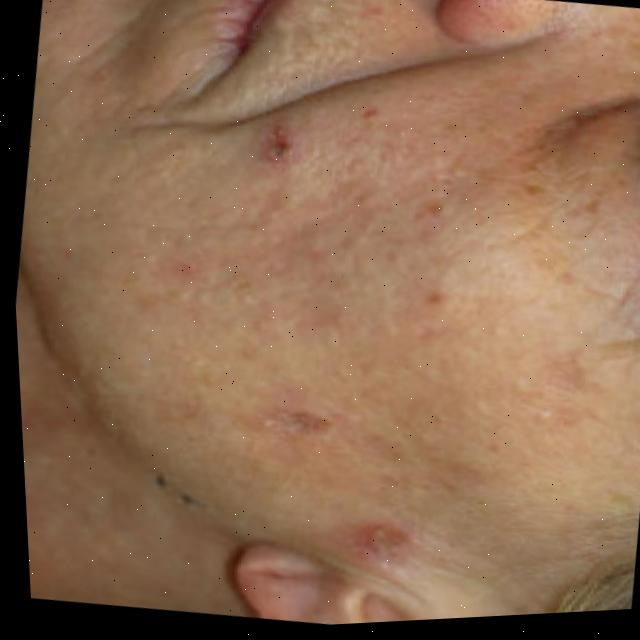Acne: (89, 0, 564, 511)
